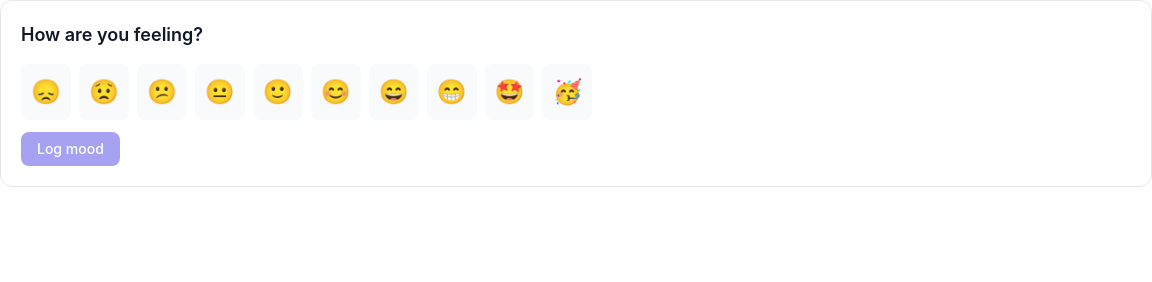
MoodEntryWidget › enables log mood button after mood is selected
Click the button with class "emoji-btn" showing "😕": (162, 92) [137,64,187,120]
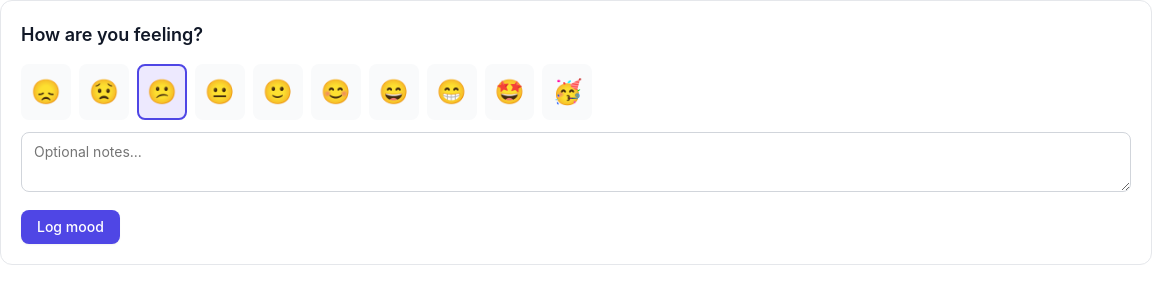
Check: the button "Log mood" is enabled, box [21,210,120,244]
